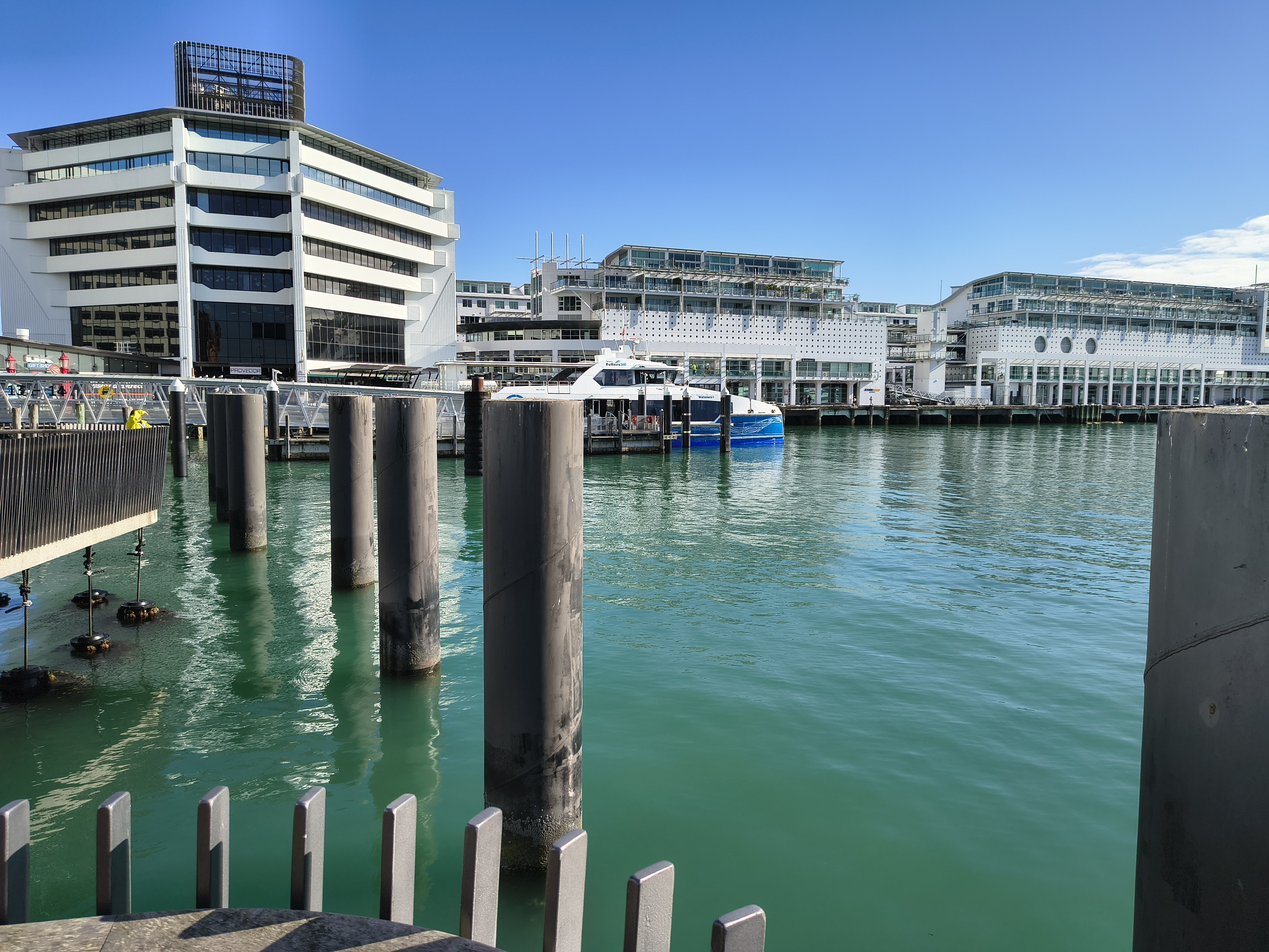ferry: (485, 341, 787, 451)
